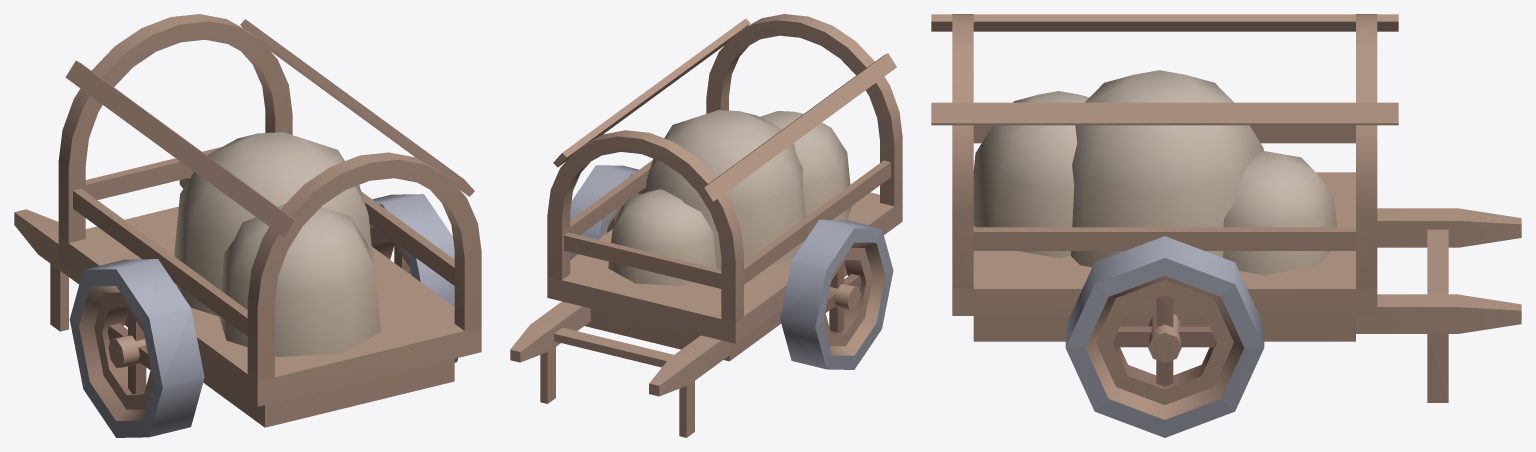
File: kenney_cart-high.fbx
3 views of the same model, side by side, from view 1: azimuth 30°, elevation 25°; view 2: azimuth 150°, elevation 25°; view 3: azimuth 270°, elevation 25° (orthographic). The views are drawn at different scales.
Parts seen in each view (by area): view 1: cart-high; view 2: cart-high; view 3: cart-high.
Part boxes in pixels (left/top/right/bottom): cart-high: left=14, top=14, right=481, bottom=437; cart-high: left=510, top=14, right=902, bottom=437; cart-high: left=931, top=14, right=1521, bottom=437.
Size of the model in its own units: 89.3 by 86.05 by 139.
